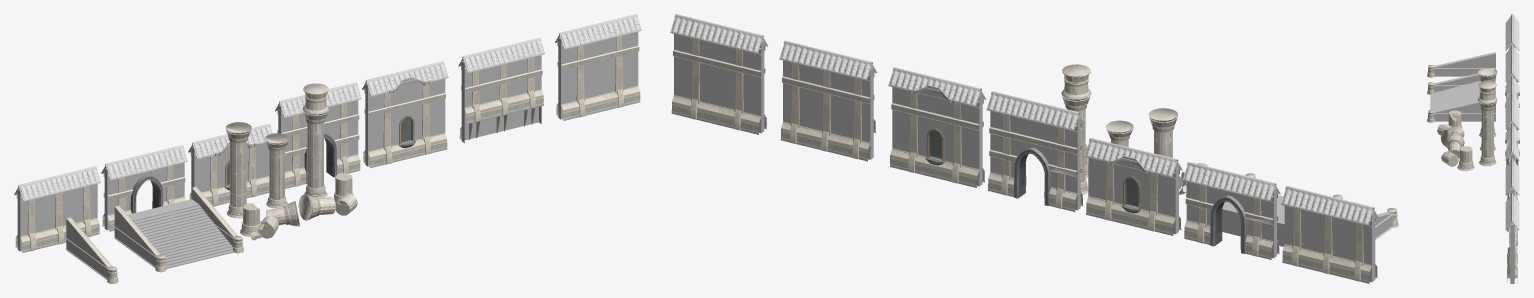
File: Ornamental_City_Walls_1A1.fbx
3 views of the same model, side by side, from view 1: azimuth 30°, elevation 25°; view 2: azimuth 150°, elevation 25°; view 3: azimuth 270°, elevation 25° (orthographic). The views are drawn at different scales.
Parts seen in each view (by area): view 1: Ornamental_City_Stairs_1A1, Ornamental_City_Wall_1B3_A, Ornamental_City_Wall_1B2, Ornamental_City_Wall_1B3_B, Ornamental_City_Wall_1B1, Ornamental_City_Wall_1A3, Ornamental_City_Wall_1A1, Ornamental_City_Stairs_Wall_1A2, Ornamental_City_Wall_1A2, Ornamental_Wall_Roofing_1A3, Ornamental_Wall_Roofing_1A1, Ornamental_Wall_Roofing_1A7 (+52 smaller); view 2: Ornamental_City_Wall_1B3_A, Ornamental_City_Wall_1B1, Ornamental_City_Wall_1B3_B, Ornamental_City_Wall_1B2, Ornamental_City_Wall_1A3, Ornamental_City_Wall_1A1, Ornamental_City_Wall_1A2, Ornamental_Wall_Pillars_1A6_B, Ornamental_Wall_Roofing_1A6, Ornamental_Wall_Roofing_1A7, Ornamental_Wall_Roofing_1A3, Ornamental_Wall_Roofing_1A4 (+39 smaller); view 3: Ornamental_City_Stairs_Wall_1A2, Ornamental_City_Stairs_1A1, Ornamental_City_Stairs_Wall_1A1, Pillar_Column_1C1, Pillar_Column_1C1.002, Pillar_Column_Destroyed_1A2, Pillar_Column_Destroyed_1A2.002, Ornamental_Wall_Roofing_1A1, Ornamental_Wall_Roofing_1A4, Ornamental_Wall_Roofing_1A7, Pillar_Column_1C1.001, Ornamental_Wall_Roofing_1A3 (+22 smaller).
Part boxes in pixels (x1,y1,x2,y2): Ornamental_City_Stairs_1A1: (127, 199, 234, 268); Ornamental_City_Wall_1B3_A: (558, 32, 638, 119); Ornamental_City_Wall_1B2: (365, 79, 445, 166); Ornamental_City_Wall_1B3_B: (461, 55, 541, 142); Ornamental_City_Wall_1B1: (278, 100, 358, 183); Ornamental_City_Wall_1A3: (17, 184, 97, 251); Ornamental_City_Wall_1A1: (104, 162, 184, 230); Ornamental_City_Stairs_Wall_1A2: (114, 187, 242, 272); Ornamental_City_Wall_1A2: (191, 143, 269, 198); Ornamental_Wall_Roofing_1A3: (14, 166, 100, 201); Ornamental_Wall_Roofing_1A1: (101, 145, 187, 180); Ornamental_Wall_Roofing_1A7: (458, 38, 544, 72); Ornamental_City_Wall_1B3_A: (674, 34, 764, 133); Ornamental_City_Wall_1B1: (990, 111, 1080, 210); Ornamental_City_Wall_1B3_B: (783, 60, 873, 159); Ornamental_City_Wall_1B2: (892, 87, 982, 186); Ornamental_City_Wall_1A3: (1284, 206, 1375, 282); Ornamental_City_Wall_1A1: (1186, 182, 1276, 258); Ornamental_City_Wall_1A2: (1088, 158, 1178, 234); Ornamental_Wall_Pillars_1A6_B: (790, 49, 861, 159); Ornamental_Wall_Roofing_1A6: (670, 14, 767, 54); Ornamental_Wall_Roofing_1A7: (779, 40, 877, 80); Ornamental_Wall_Roofing_1A3: (1281, 186, 1378, 225); Ornamental_Wall_Roofing_1A4: (986, 91, 1084, 131); Ornamental_City_Stairs_Wall_1A2: (1427, 73, 1495, 122); Ornamental_City_Stairs_1A1: (1430, 79, 1495, 110); Ornamental_City_Stairs_Wall_1A1: (1427, 52, 1495, 77); Pillar_Column_1C1: (1478, 80, 1497, 165); Pillar_Column_1C1.002: (1478, 87, 1496, 166); Pillar_Column_Destroyed_1A2: (1441, 134, 1473, 169); Pillar_Column_Destroyed_1A2.002: (1441, 134, 1474, 170); Ornamental_Wall_Roofing_1A1: (1505, 45, 1519, 82); Ornamental_Wall_Roofing_1A4: (1505, 92, 1519, 129); Ornamental_Wall_Roofing_1A7: (1505, 158, 1519, 195); Pillar_Column_1C1.001: (1478, 81, 1496, 166); Ornamental_Wall_Roofing_1A3: (1505, 14, 1519, 50).
Size of the model in its own units: 6402 by 1064 by 1130.
